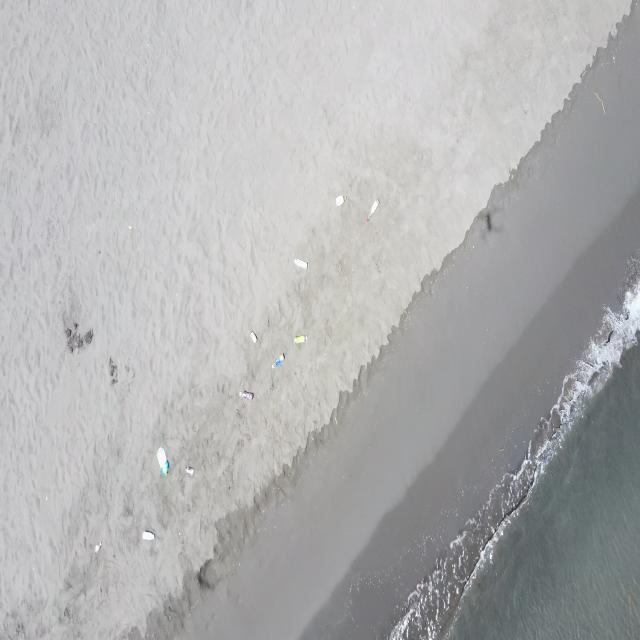Garbage: (65, 322, 91, 352), (156, 447, 168, 475), (592, 91, 604, 114), (367, 200, 379, 219), (108, 356, 116, 384), (272, 352, 283, 367), (141, 529, 154, 540), (293, 258, 307, 267), (239, 391, 252, 399), (335, 195, 344, 206), (295, 335, 306, 343), (249, 331, 256, 343), (94, 540, 100, 552), (184, 466, 192, 475), (128, 224, 131, 230)
